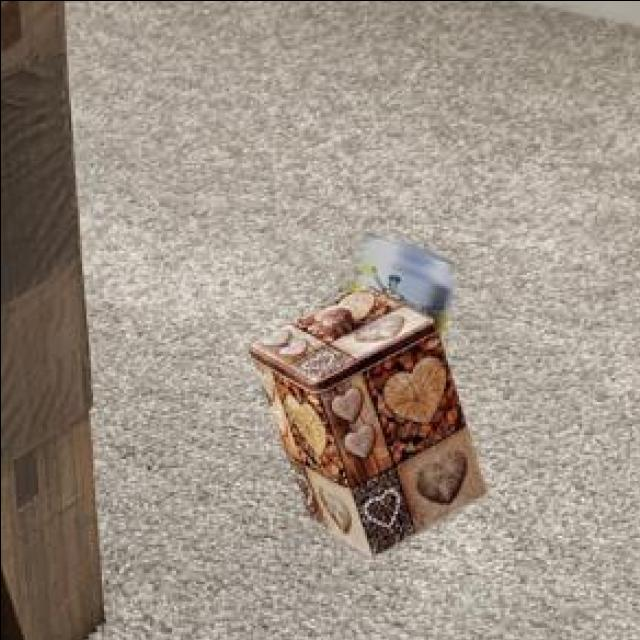logam: (244, 284, 483, 551), (354, 231, 448, 332)
